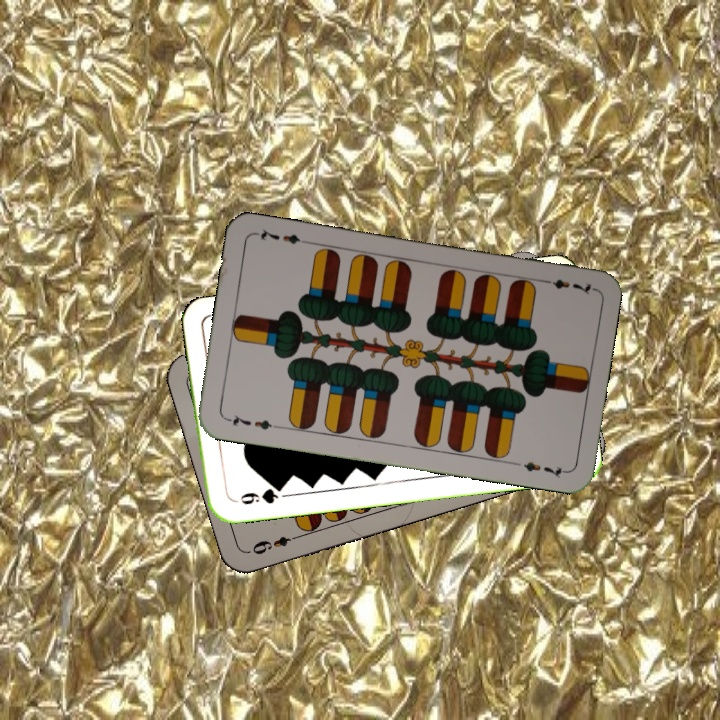E7: (222, 410, 281, 433), (537, 275, 596, 298)
E9: (245, 530, 303, 557)
G9: (236, 482, 286, 508)
